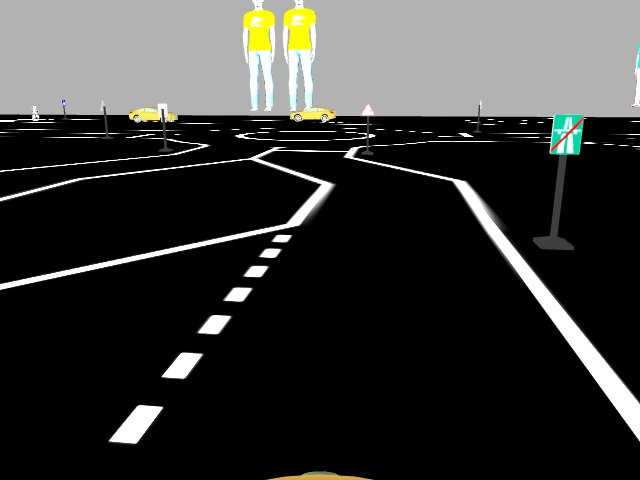HighwayExit: (548, 114, 586, 154)
